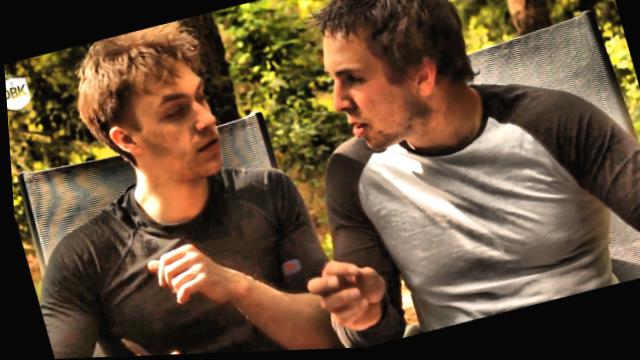knife: (103, 313, 198, 357)
